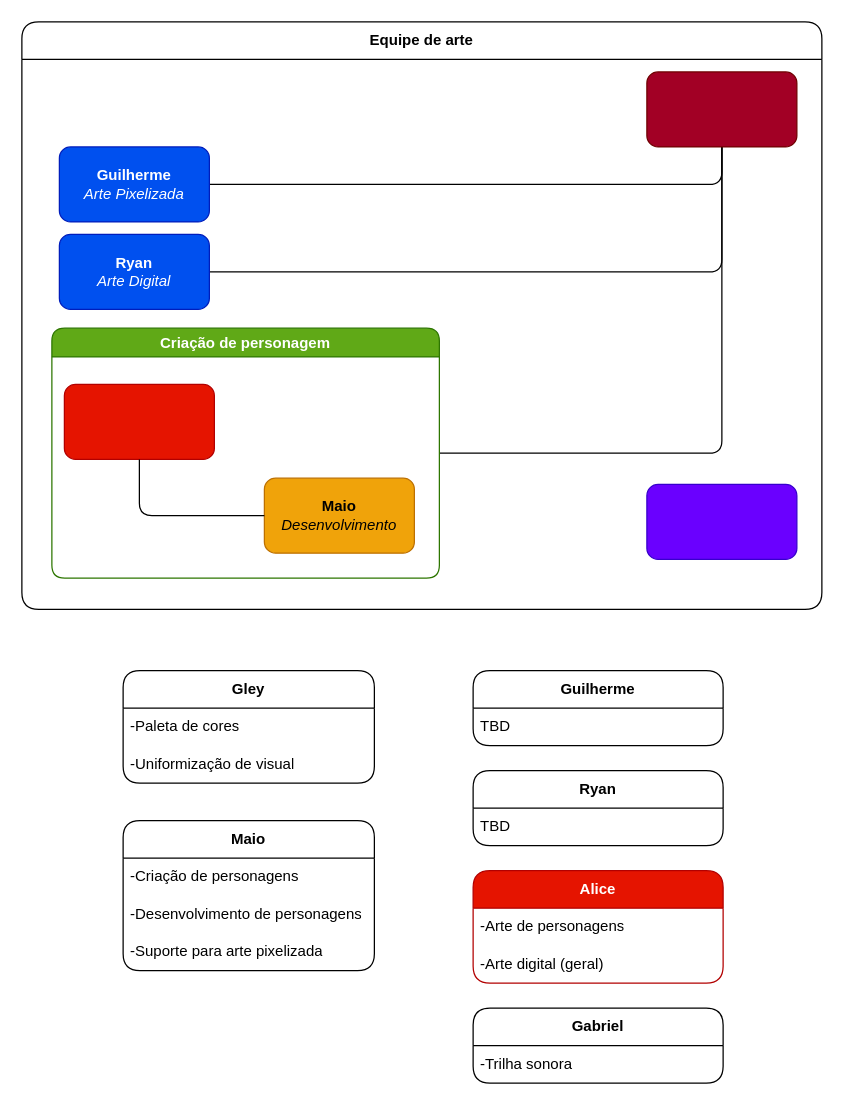
The diagram is 844 pixels wide and 1105 high, and some of its shapes have lost their labels. Here are the shapes that lost their labels. From the top down, the centre of each, then its label:
At point (721, 109): "Gley Diretora de arte".
At point (138, 421): "Alice Arte Digital".
At point (721, 521): "Gabriel Soundtrack".
